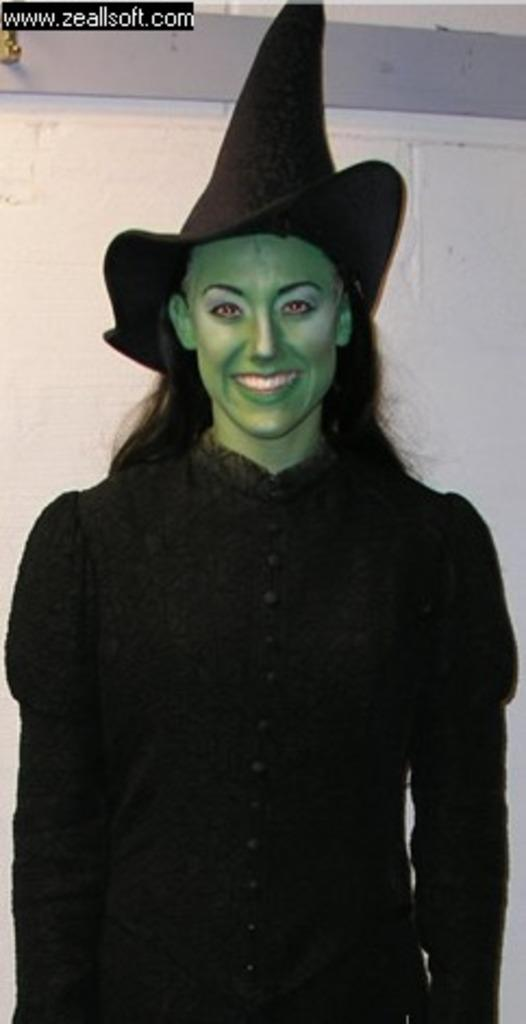Hat: (93, 17, 393, 408)
